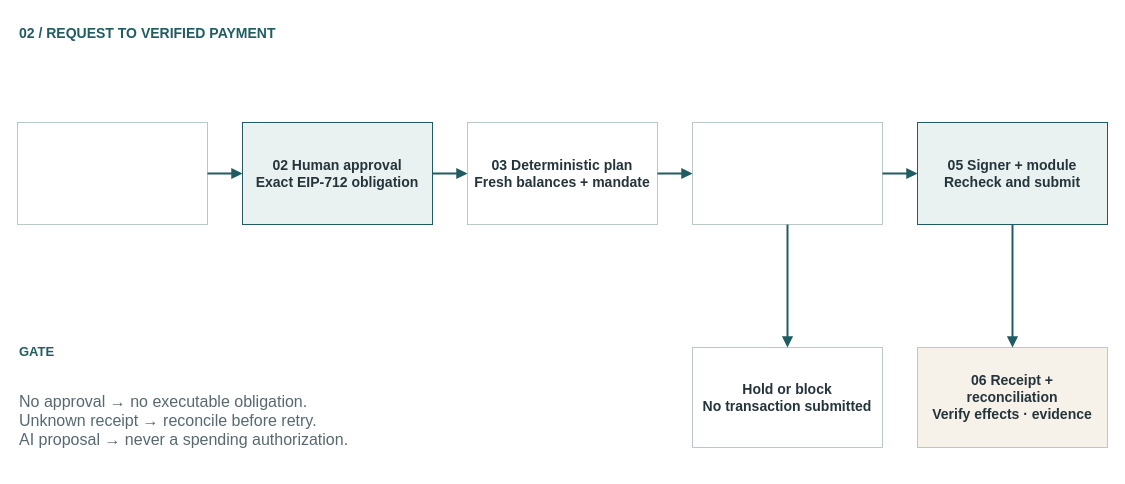
Some shapes in this 1125 by 484 pixel diagram are drawn without their labels. The shapes that lost their labels are listed below. From the top down, each one's centre as x and y in pixels, then its label:
At [112,173]: "01 Invoice intake Fields · terms · flags".
At [787,173]: "04 Policy gate ALLOW → execute NEEDS_APPROVAL / BLOCK → hold".
